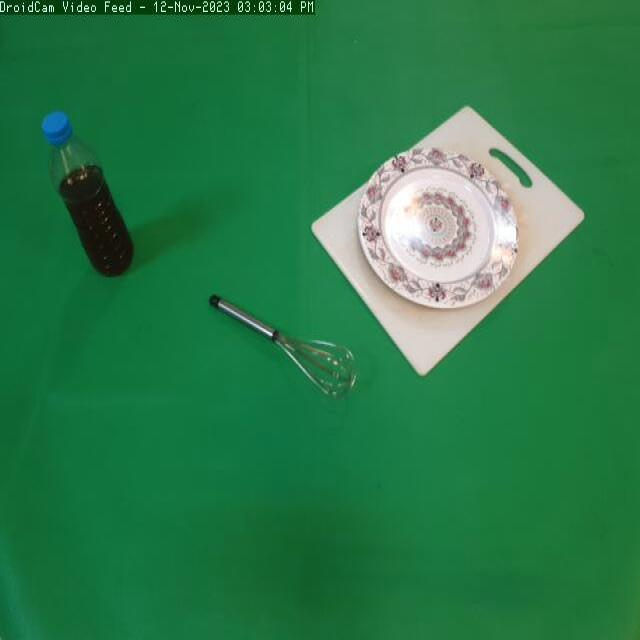cutting board: (306, 95, 593, 383)
fullbottle: (36, 103, 142, 289)
plate: (351, 145, 521, 314)
whisk: (202, 283, 368, 412)
